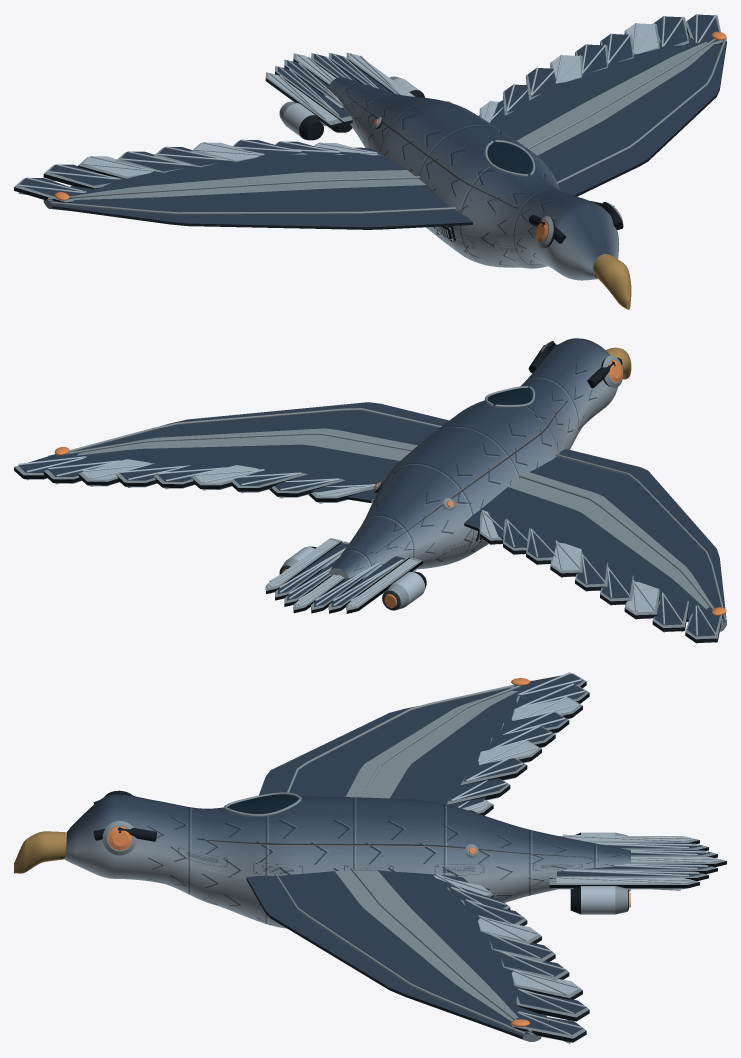
The model's file is ship.glb.
3 views of the same model, one above another, from view 1: azimuth 30°, elevation 25°; view 2: azimuth 150°, elevation 25°; view 3: azimuth 270°, elevation 25° (orthographic). The views are drawn at different scales.
Visible parts, largest first — view 1: falcon_hull; view 2: falcon_hull; view 3: falcon_hull.
Boxes of the visible parts, bbox=[...] form: falcon_hull: bbox=[14, 14, 726, 309]; falcon_hull: bbox=[14, 338, 726, 643]; falcon_hull: bbox=[14, 672, 726, 1043].
Size of the model in its own units: 68 by 10.83 by 56.07.
Materials: 1 (1 with a texture image).
